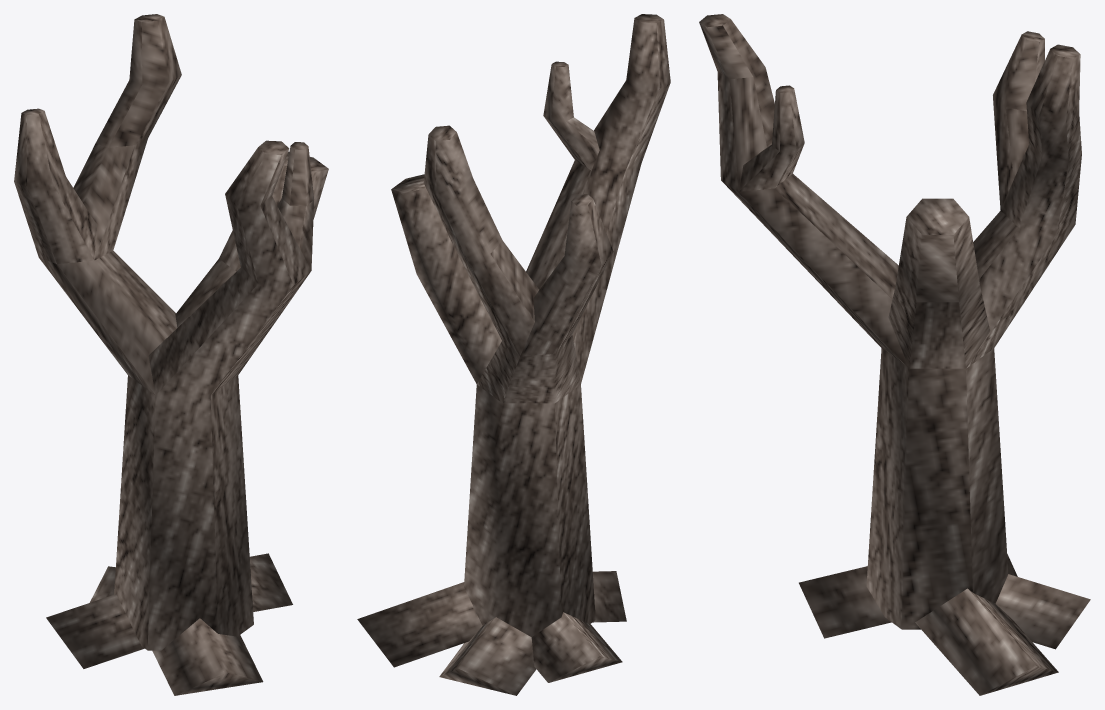
The model's file is oaknak_0.obj.
3 views of the same model, side by side, from view 1: azimuth 30°, elevation 25°; view 2: azimuth 150°, elevation 25°; view 3: azimuth 270°, elevation 25° (orthographic). The views are drawn at different scales.
Parts seen in each view (by area): view 1: oaknak_0; view 2: oaknak_0; view 3: oaknak_0.
Boxes of the visible parts, box(x1,y1,x2,y2) form: oaknak_0: box(14, 14, 328, 695); oaknak_0: box(357, 14, 670, 695); oaknak_0: box(699, 14, 1090, 695).
Bounding box in the file's own units: 4.22 × 9.12 × 5.37.
